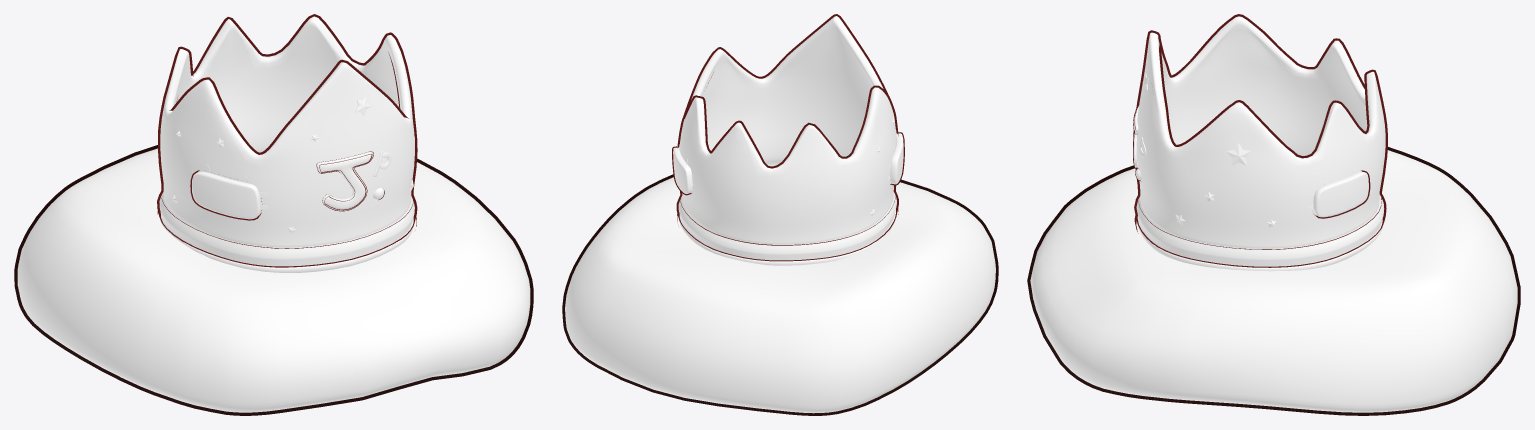
Rendered from CouronneOutiline.glb.
The picture shows the model from 3 angles, left to right: view 1: azimuth 30°, elevation 25°; view 2: azimuth 150°, elevation 25°; view 3: azimuth 270°, elevation 25°; orthographic projection. The views are drawn at different scales.
Parts seen in each view (by area): view 1: monCoussin, couronne, pansements, leJ; view 2: monCoussin, couronne, pansements; view 3: monCoussin, couronne, pansements, etoiles.
Boxes of the visible parts, left/top/right/bottom form: monCoussin: left=14, top=145, right=533, bottom=415; couronne: left=157, top=14, right=417, bottom=272; pansements: left=190, top=170, right=262, bottom=220; leJ: left=316, top=151, right=384, bottom=211; monCoussin: left=562, top=174, right=998, bottom=415; couronne: left=676, top=14, right=898, bottom=265; pansements: left=672, top=132, right=904, bottom=195; monCoussin: left=1027, top=147, right=1520, bottom=415; couronne: left=1134, top=14, right=1387, bottom=271; pansements: left=1313, top=170, right=1370, bottom=218; etoiles: left=1142, top=73, right=1276, bottom=227.
Bounding box in the file's own units: 1.02 × 0.7665 × 1.09.
